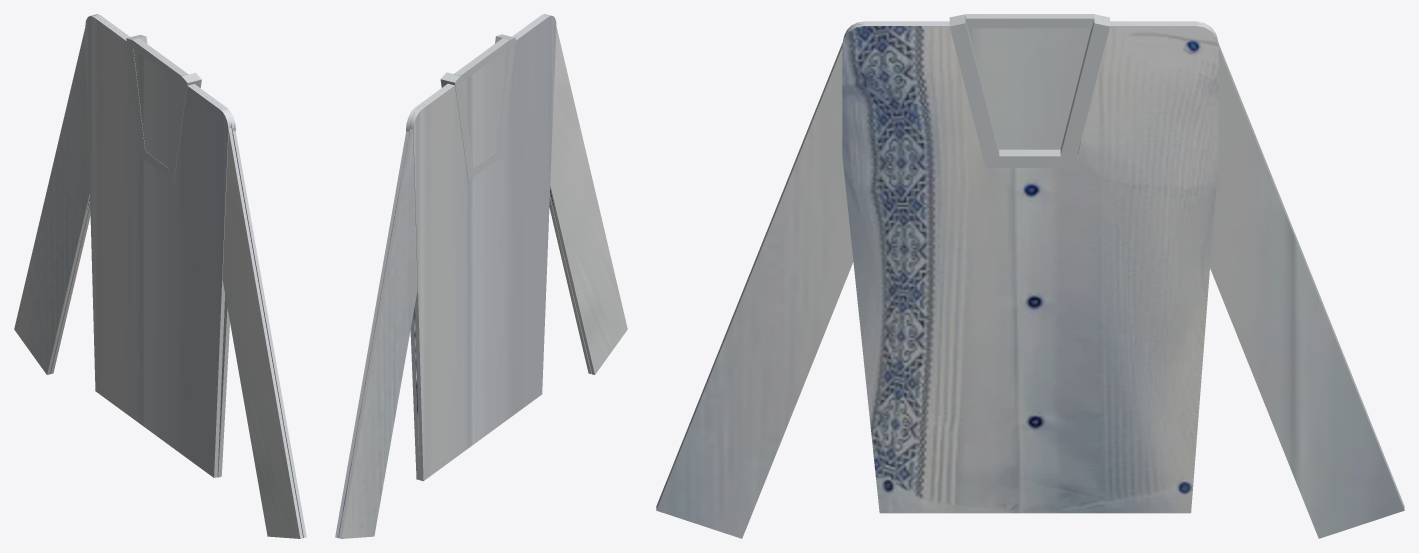
The model's file is Guayabera1_5.obj.
3 renders of one model, left to right at view 1: azimuth 30°, elevation 25°; view 2: azimuth 150°, elevation 25°; view 3: azimuth 270°, elevation 25°, orthographic. The views are drawn at different scales.
Visible parts, largest first — view 1: Guayabera1; view 2: Guayabera1; view 3: Guayabera1.
Part boxes in pixels (bbox=[...]): Guayabera1: bbox=[14, 14, 306, 538]; Guayabera1: bbox=[335, 14, 627, 538]; Guayabera1: bbox=[656, 14, 1404, 538].
Size of the model in its own units: 0.0201 by 0.5339 by 0.6959.
Materials: 1 (1 with a texture image).
